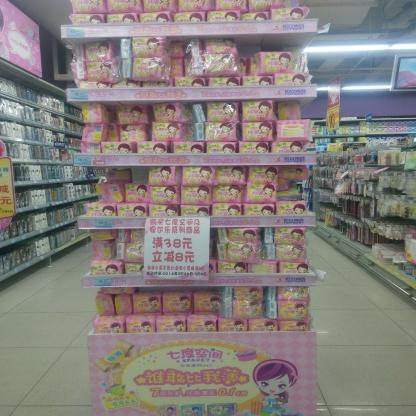Void: (236, 40, 296, 52), (277, 101, 311, 121), (103, 168, 146, 182)
